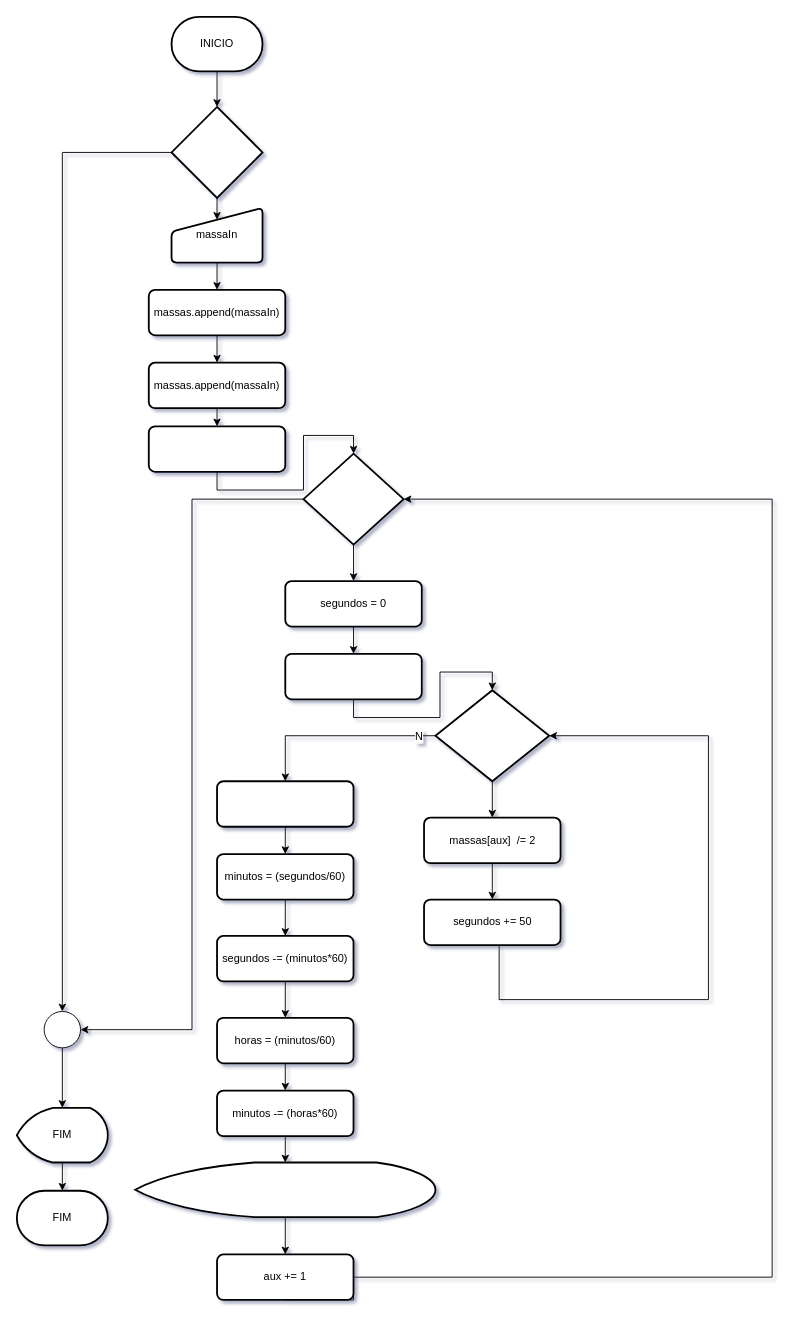
This 801x1329 diagram has some shape labels left out. Here are the shapes that lost their labels. From the top down, the box of each, then its label:
(170, 106, 263, 198): massaIn >= 0
(147, 425, 286, 472): aux = aux + 1
(302, 452, 404, 545): massa[aux] >= 0
(284, 652, 422, 700): init = massas[aux]
(434, 689, 550, 782): massa[aux] >= 0.5
(216, 780, 354, 827): final = massas[aux]
(134, 1161, 436, 1218): MASSA INICIAL =init MASSAFINAL=final TEMPO DECORRIDO=horas:minutos:segundos
